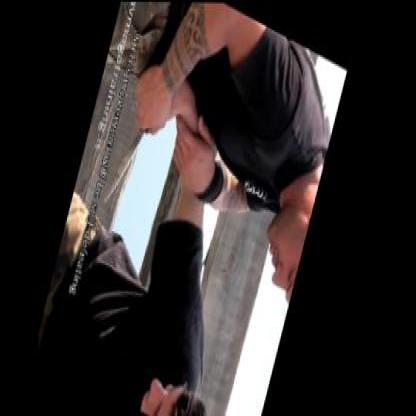knife: (104, 79, 176, 227)
